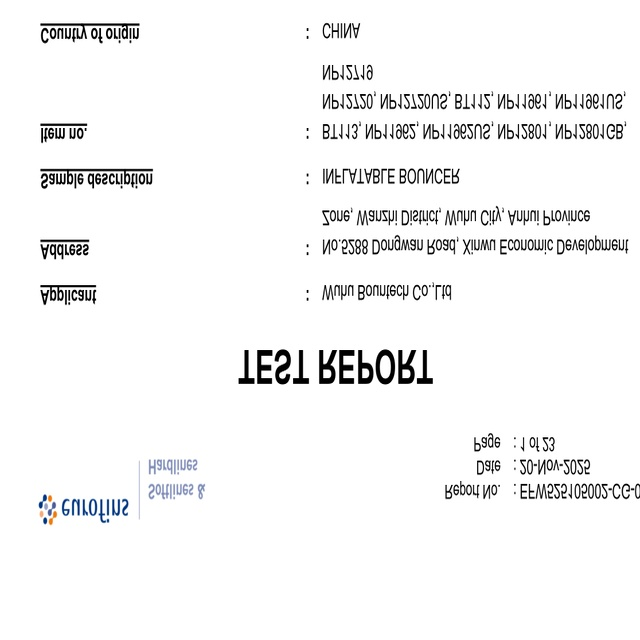eurofins: (31, 492, 133, 537)
